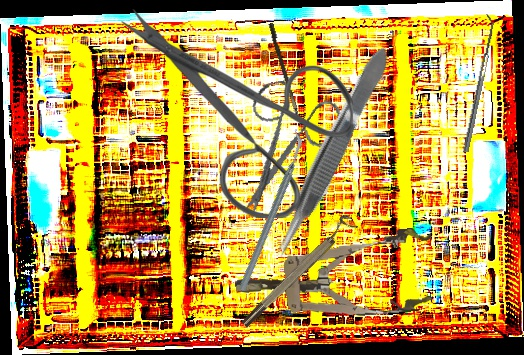Chopper: (187, 127, 354, 295)
Fixation Ring: (235, 212, 359, 330)
Hook Surgical: (266, 22, 312, 145)
Iris Scissors: (121, 9, 353, 218), (216, 70, 359, 219)
Spatula Surgical: (457, 13, 498, 153)
Speculum: (231, 226, 438, 327)
Tissue Forceps: (263, 42, 400, 265)
